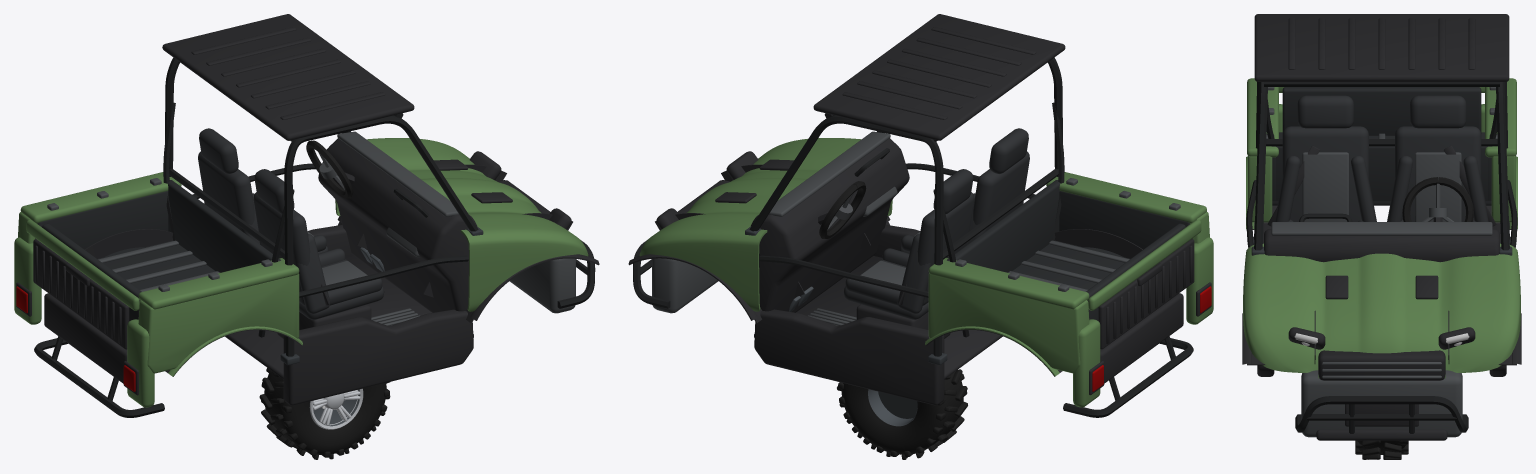
File: teryx.glb
3 renders of one model, left to right at view 1: azimuth 30°, elevation 25°; view 2: azimuth 150°, elevation 25°; view 3: azimuth 270°, elevation 25°, orthographic.
Visible parts, largest first — view 1: Body, Tray, WheelR, WheelF; view 2: Body, Tray, WheelR, WheelF; view 3: Body, Tray, WheelR.
Boxes of the visible parts, bbox=[...] form: Body: bbox=[34, 14, 599, 417]; Tray: bbox=[14, 172, 302, 407]; WheelR: bbox=[259, 368, 390, 459]; WheelF: bbox=[261, 370, 358, 457]; Body: bbox=[628, 14, 1193, 417]; Tray: bbox=[925, 172, 1213, 407]; WheelR: bbox=[837, 369, 967, 459]; WheelF: bbox=[866, 371, 965, 457]; Body: bbox=[1242, 14, 1521, 440]; Tray: bbox=[1246, 78, 1517, 229]; WheelR: bbox=[1355, 440, 1408, 459].
Bounding box in the file's own units: 3.03 × 2.31 × 1.49.
